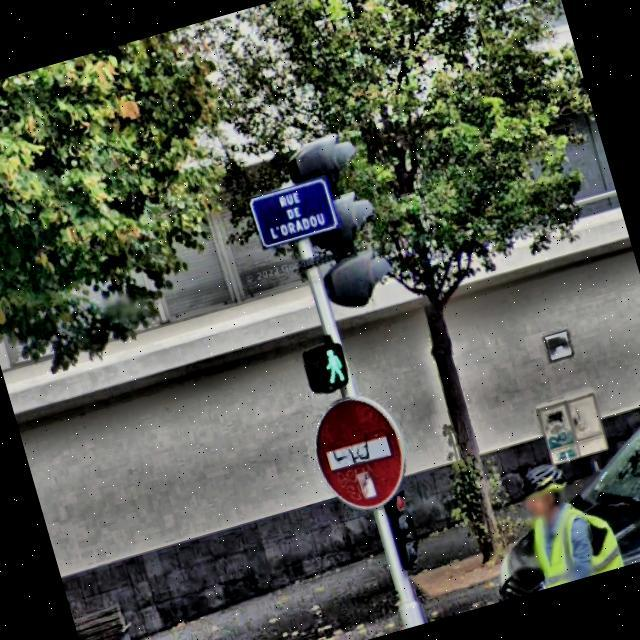green_light: (312, 341, 350, 388)
